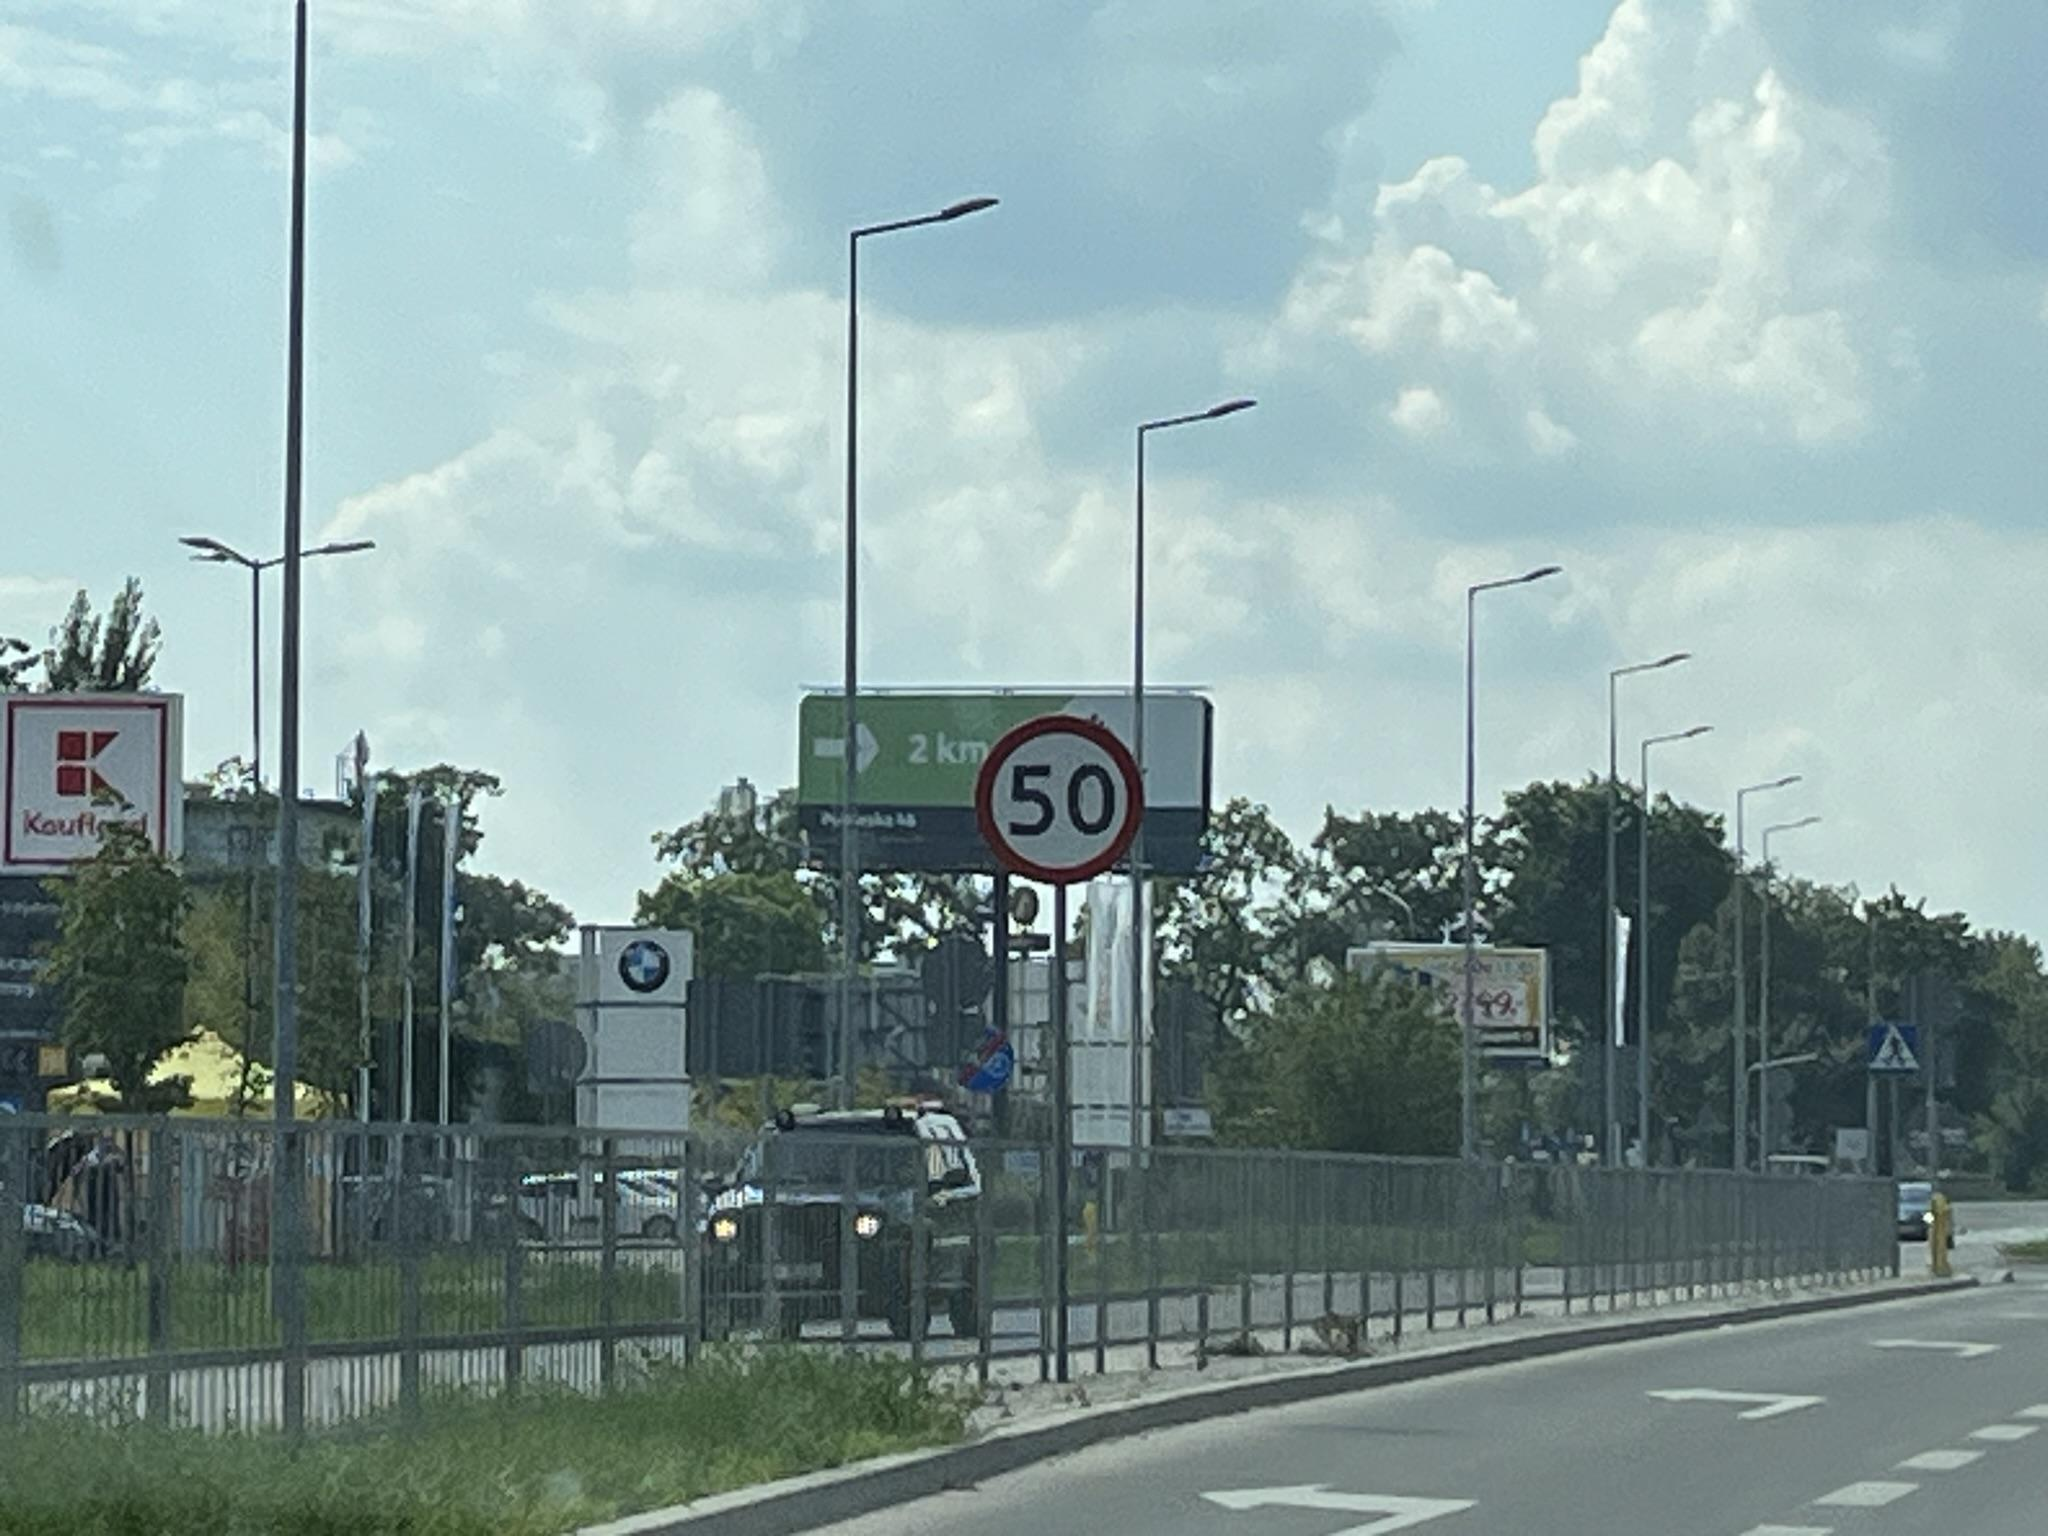information: (1871, 1025, 1917, 1071)
prohibitory: (974, 715, 1147, 884)
